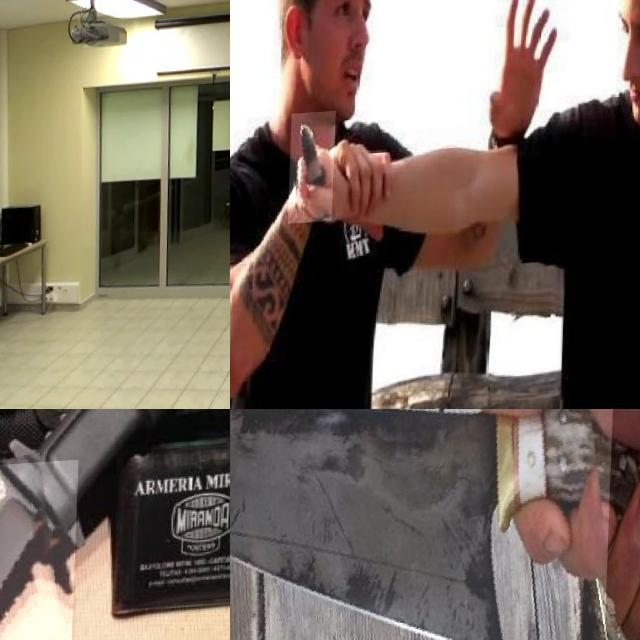-: (230, 409, 619, 640), (0, 464, 152, 640), (290, 113, 337, 225)
